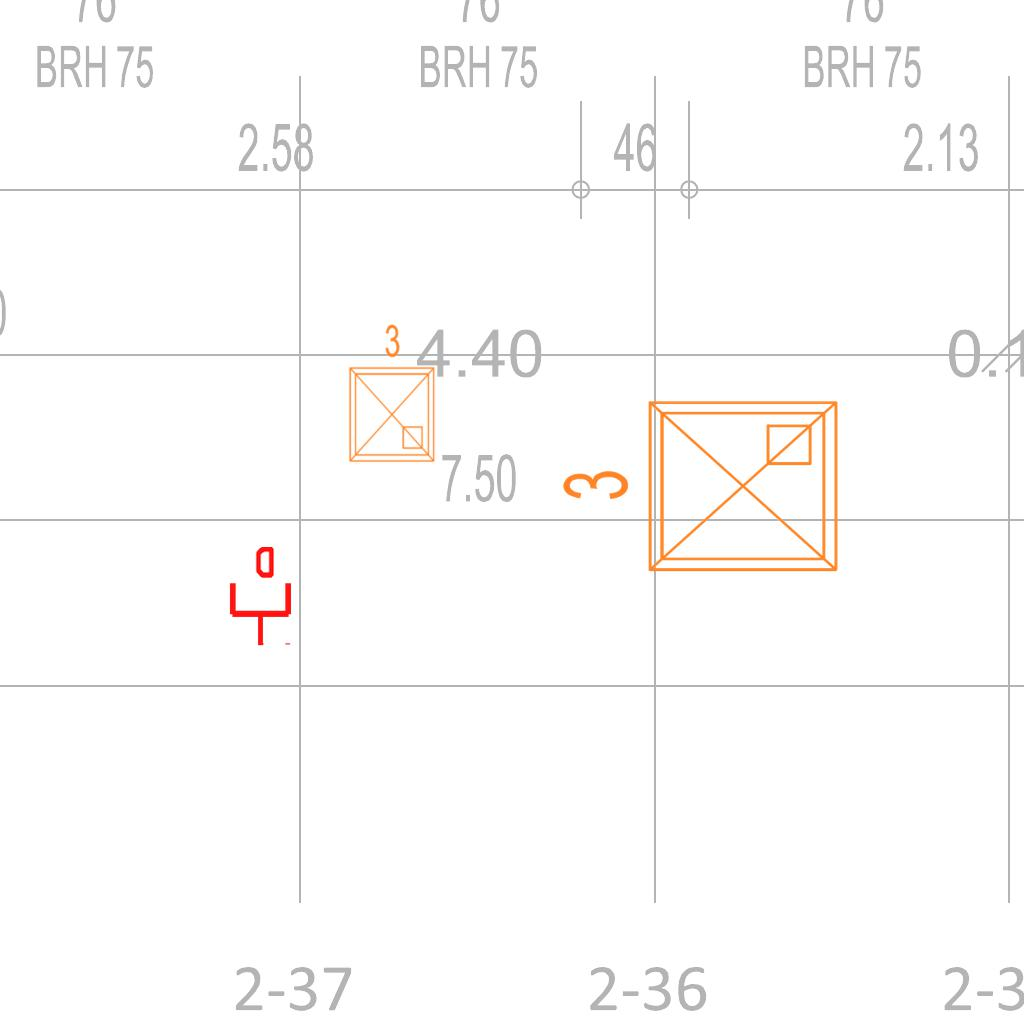Datenanschluss_einfach: (226, 547, 295, 647)
Einbaudownlights_LED_Konferenzraeume: (552, 386, 852, 594), (338, 319, 442, 469)
